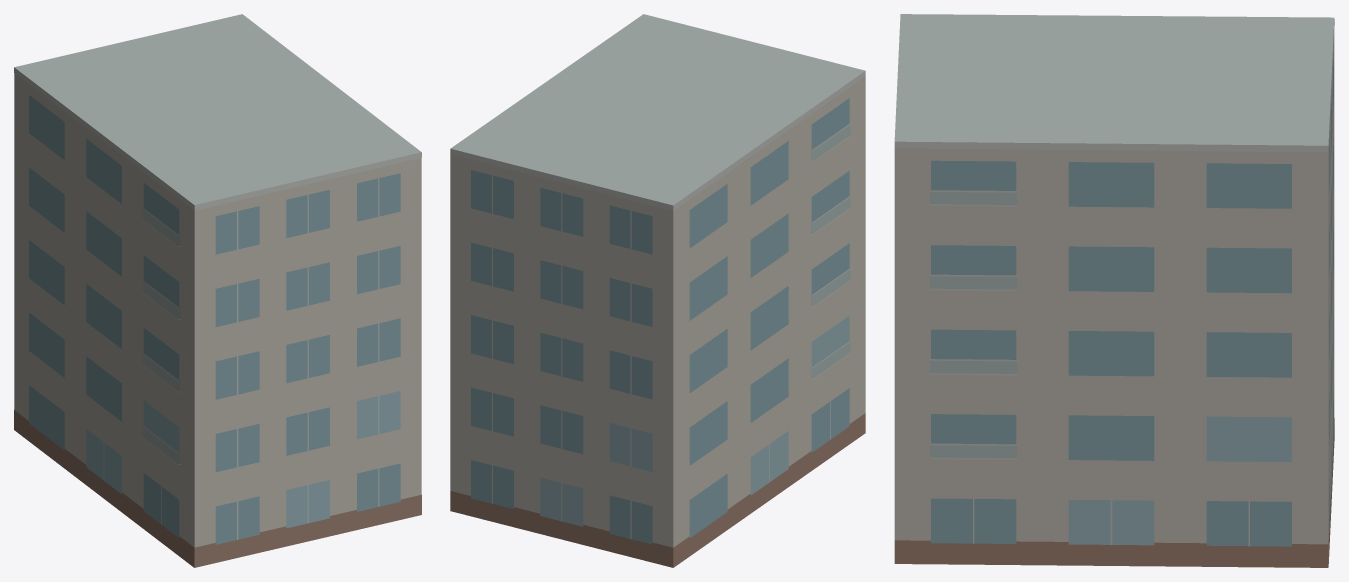
File: survey-upis-32545657.glb
The picture shows the model from 3 angles, left to right: view 1: azimuth 30°, elevation 25°; view 2: azimuth 150°, elevation 25°; view 3: azimuth 270°, elevation 25°; orthographic projection. The views are drawn at different scales.
Parts seen in each view (by area): view 1: survey-upis-32545657.tmp; view 2: survey-upis-32545657.tmp; view 3: survey-upis-32545657.tmp.
Boxes of the visible parts, bbox=[...] form: survey-upis-32545657.tmp: bbox=[14, 14, 421, 567]; survey-upis-32545657.tmp: bbox=[450, 14, 865, 567]; survey-upis-32545657.tmp: bbox=[894, 14, 1334, 567].
Bounding box in the file's own units: 10.66 × 15.9 × 15.02.
